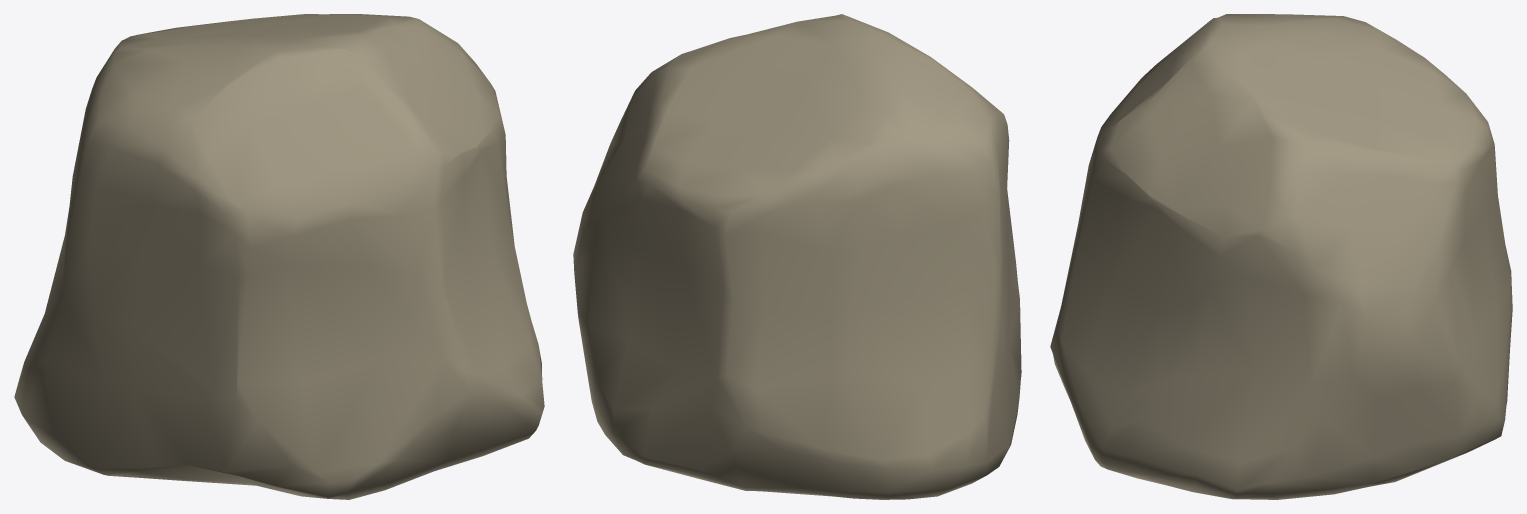
Rendered from quaternius-pirate-rock-1.glb.
3 renders of one model, left to right at view 1: azimuth 30°, elevation 25°; view 2: azimuth 150°, elevation 25°; view 3: azimuth 270°, elevation 25°, orthographic. The views are drawn at different scales.
Parts seen in each view (by area): view 1: Environment_Rock_1; view 2: Environment_Rock_1; view 3: Environment_Rock_1.
Boxes of the visible parts, box(x1,y1,x2,y2) form: Environment_Rock_1: box(14, 14, 544, 499); Environment_Rock_1: box(573, 14, 1021, 499); Environment_Rock_1: box(1050, 14, 1512, 499).
Size of the model in its own units: 0.6881 by 0.5872 by 0.6574.
Materials: 1 (1 with a texture image).
